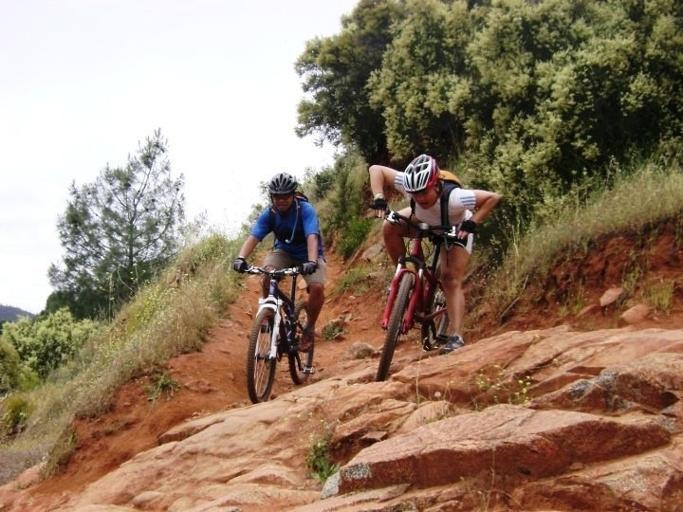non-vehicle: (367, 199, 467, 382), (234, 261, 321, 405)
